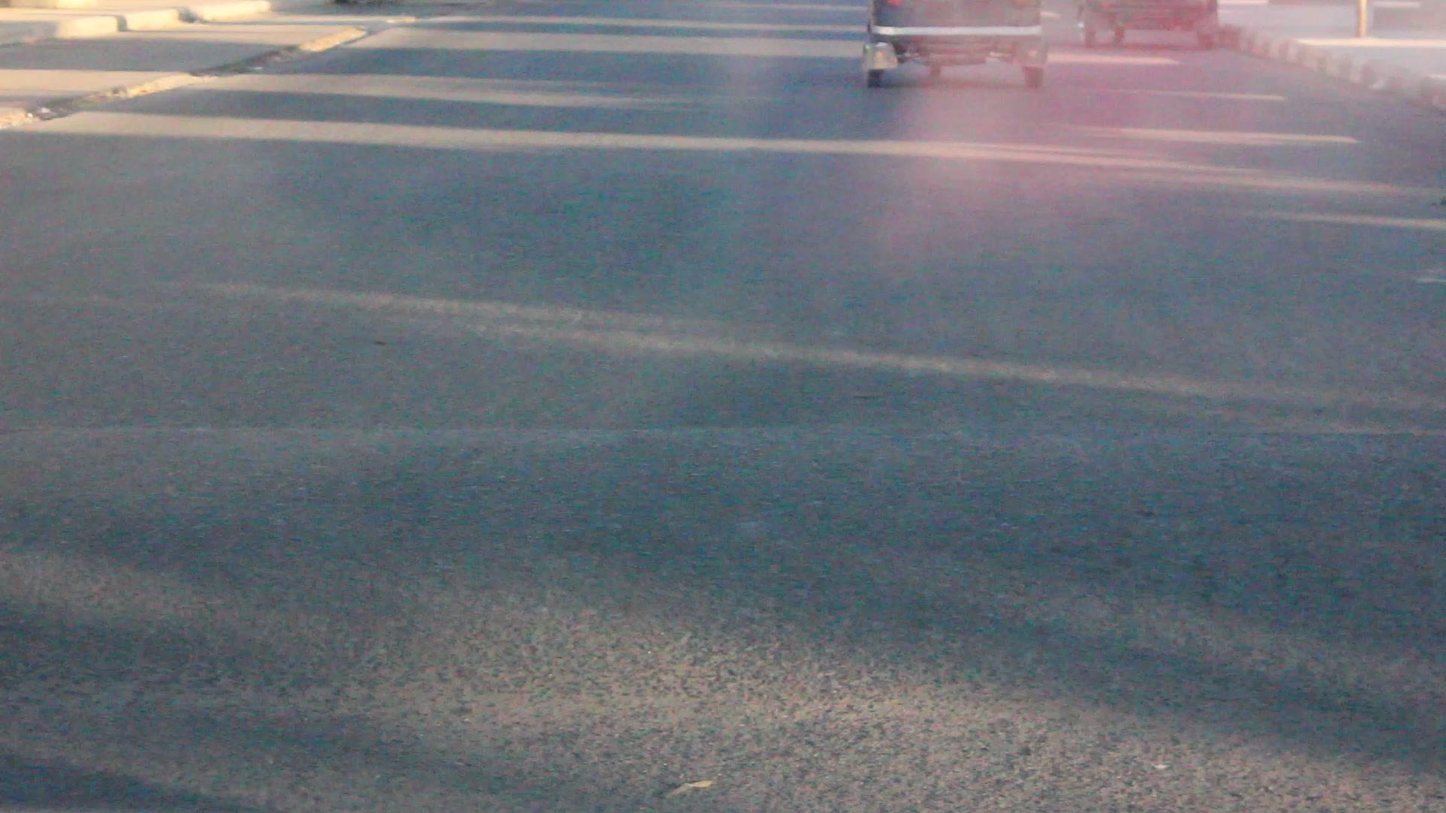Bump: (0, 428, 1445, 725)
